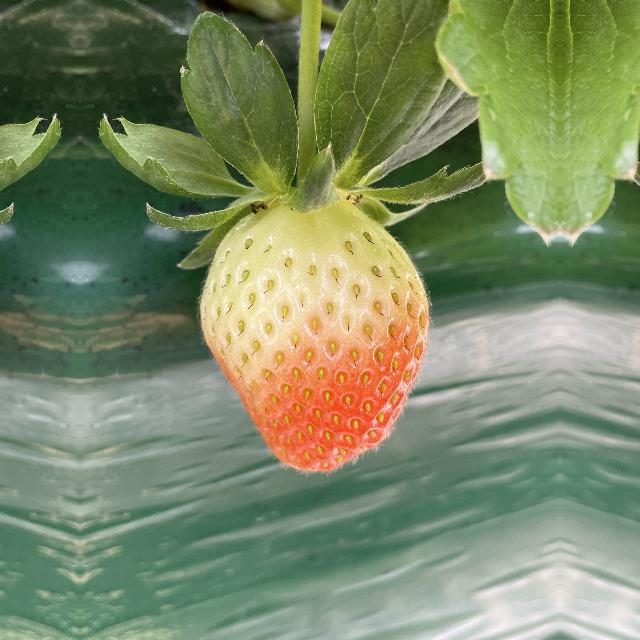Health_75: (194, 198, 436, 478)
